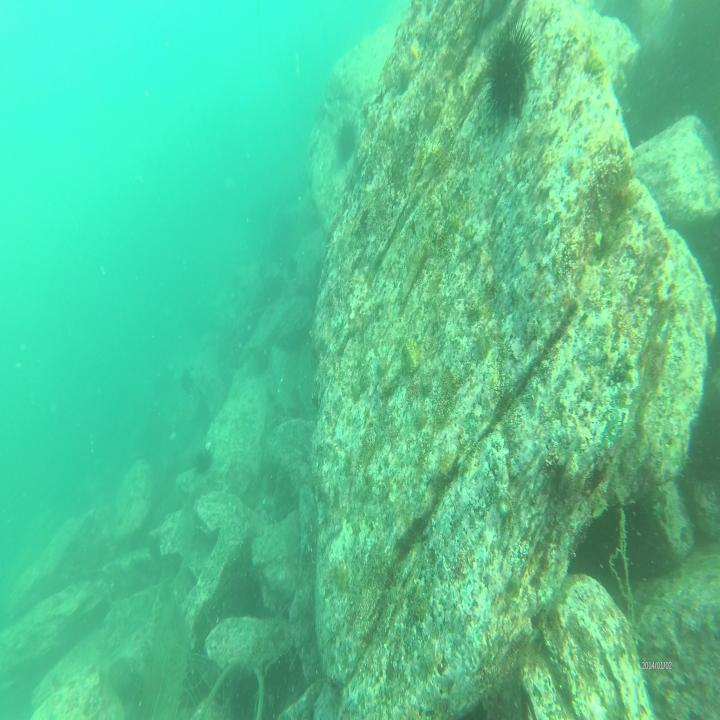echinus: (485, 18, 538, 127), (336, 116, 356, 164), (192, 442, 216, 476)
